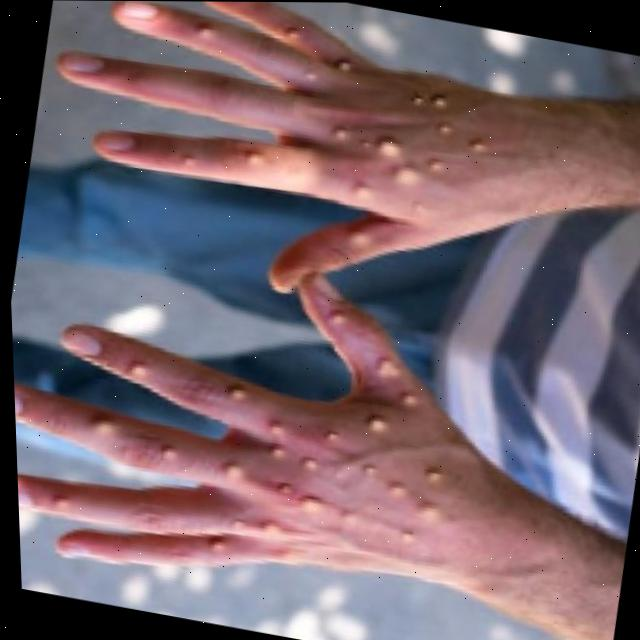Eczema: (13, 248, 487, 611), (151, 6, 506, 248)
